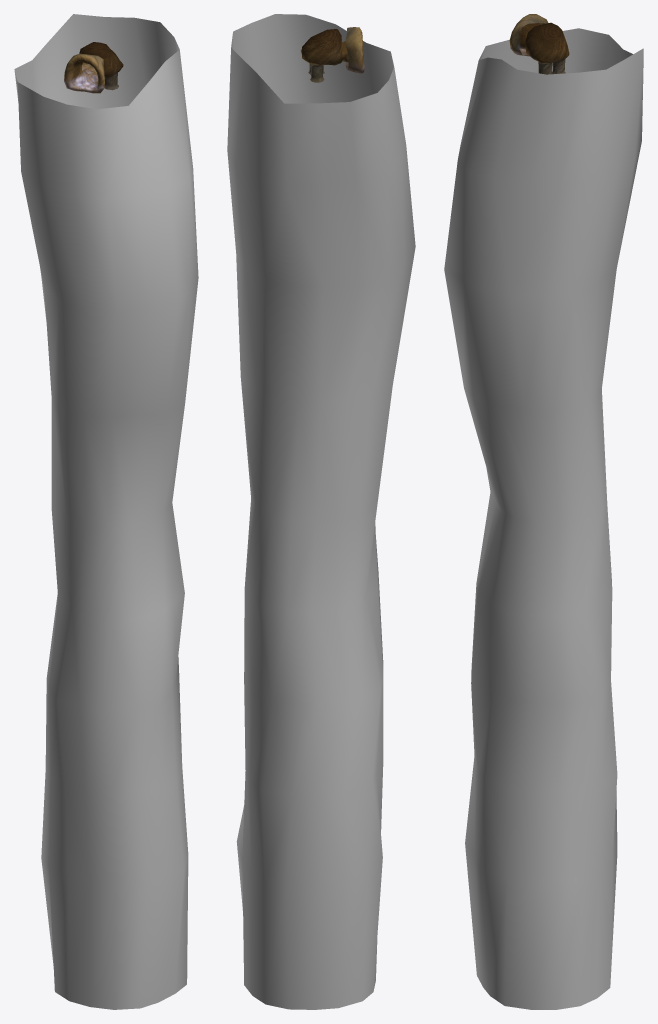
File: skyjungle_Lulu_under.fbx
3 views of the same model, side by side, from view 1: azimuth 30°, elevation 25°; view 2: azimuth 150°, elevation 25°; view 3: azimuth 270°, elevation 25° (orthographic).
Visible parts, largest first — view 1: Tree_Under, Entrance; view 2: Tree_Under, Entrance; view 3: Tree_Under, Entrance.
Part boxes in pixels (x1=…): Tree_Under: x1=14, y1=14, x2=198, y2=1009; Entrance: x1=64, y1=42, x2=123, y2=93; Tree_Under: x1=227, y1=14, x2=415, y2=1009; Entrance: x1=301, y1=27, x2=364, y2=82; Tree_Under: x1=444, y1=28, x2=643, y2=1009; Entrance: x1=509, y1=14, x2=569, y2=74.
Size of the model in its own units: 4972 by 29775 by 5675.
